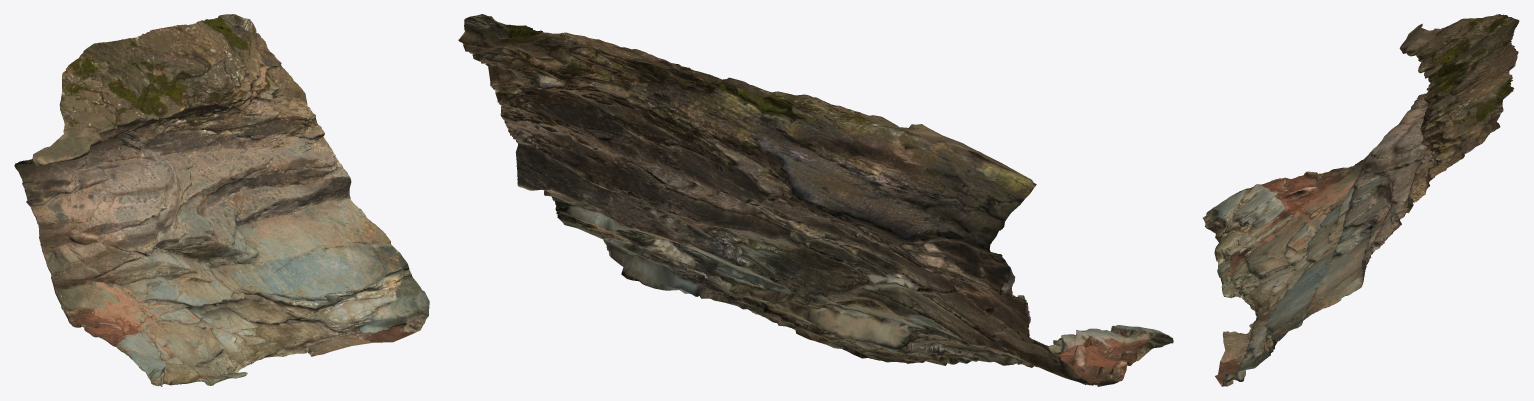
Rendered from rock_face_01.glb.
The picture shows the model from 3 angles, left to right: view 1: azimuth 30°, elevation 25°; view 2: azimuth 150°, elevation 25°; view 3: azimuth 270°, elevation 25°; orthographic projection. The views are drawn at different scales.
Parts seen in each view (by area): view 1: rock_face_01; view 2: rock_face_01; view 3: rock_face_01.
Part boxes in pixels (left/top/right/bottom): rock_face_01: left=14, top=14, right=429, bottom=386; rock_face_01: left=458, top=14, right=1173, bottom=386; rock_face_01: left=1202, top=14, right=1519, bottom=386.
Bounding box in the file's own units: 4.95 × 3.56 × 3.83.
1 material, 1 textured.
